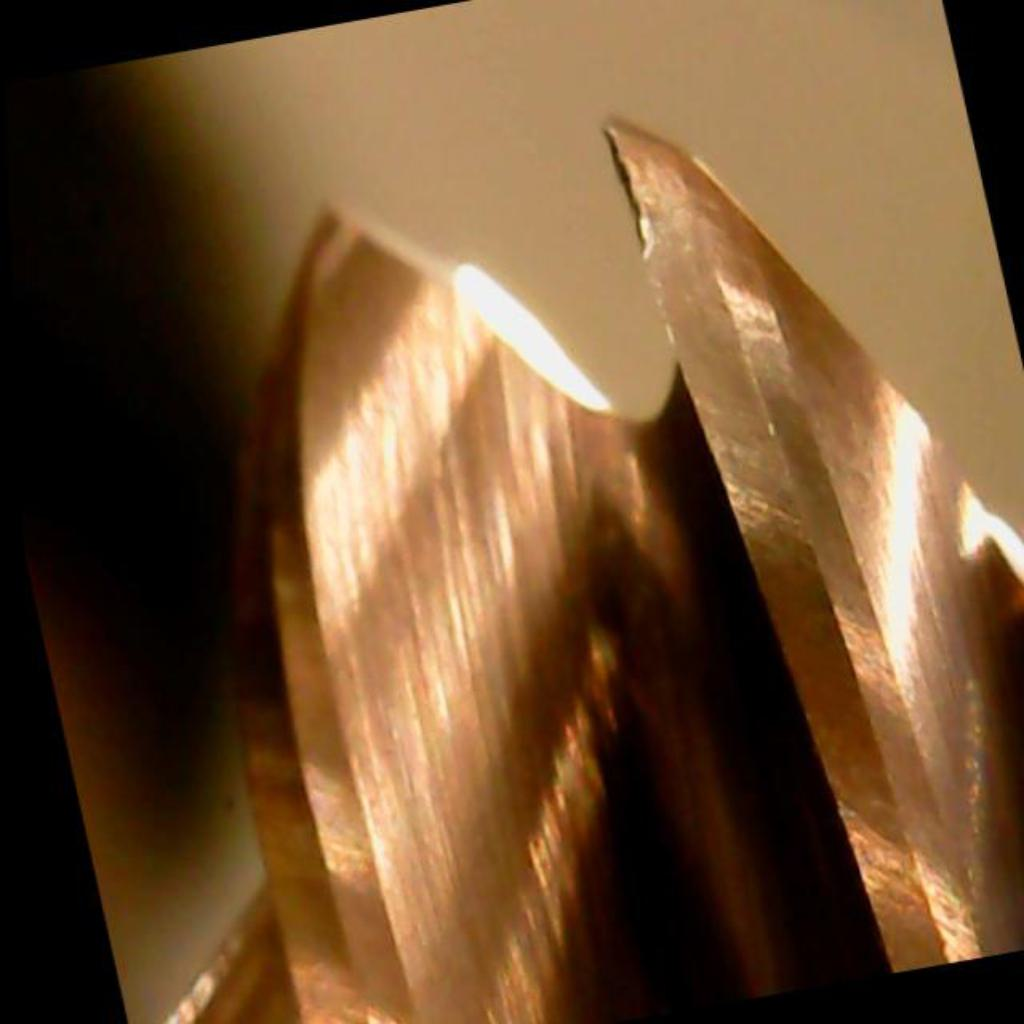Tool-wear-class-1: (585, 90, 818, 500)
